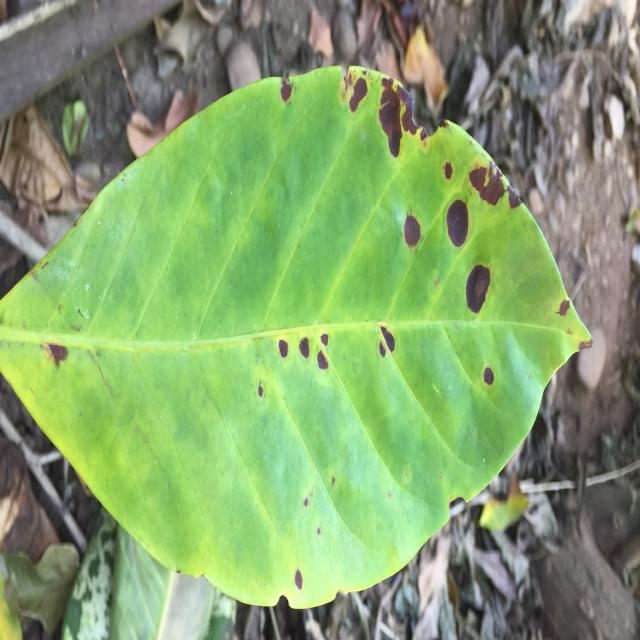Enfermedad-Mancha-de-hierro: (0, 66, 591, 611)
